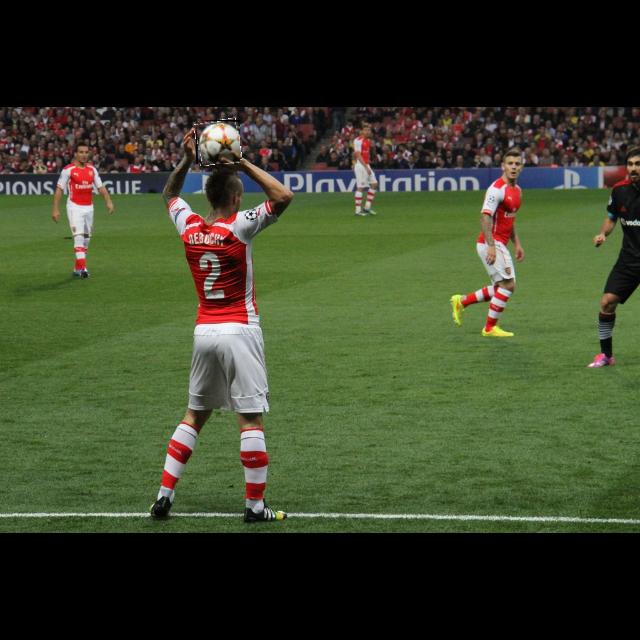Football: (196, 120, 240, 164)
